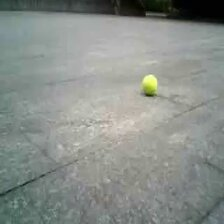tennis: (142, 76, 157, 93)
